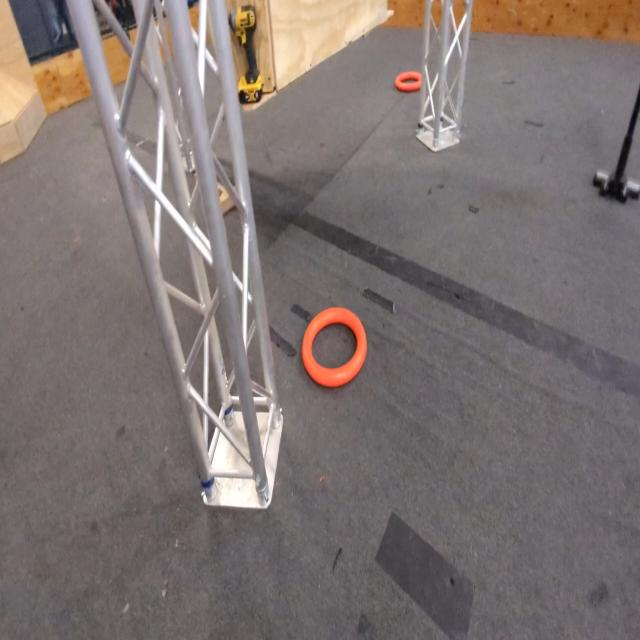note: (304, 309, 370, 386), (396, 70, 424, 94)
